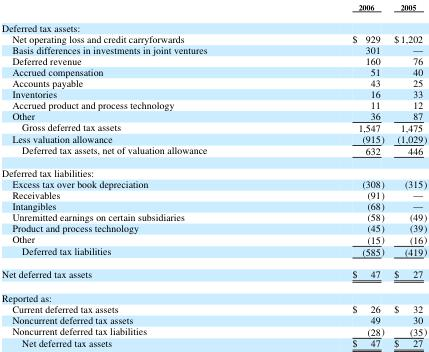table: (1, 1, 426, 349)
table column: (1, 1, 278, 349), (278, 1, 388, 349), (388, 1, 426, 349)
table column header: (1, 1, 426, 16)
table projected row header: (1, 285, 426, 303), (1, 161, 426, 178), (1, 16, 426, 32)
table row: (1, 262, 426, 285), (1, 143, 426, 161), (1, 244, 426, 262), (1, 285, 426, 303), (1, 161, 426, 178), (1, 16, 426, 32), (1, 1, 426, 16), (1, 336, 426, 349), (1, 120, 426, 132), (1, 32, 426, 43), (1, 43, 426, 54), (1, 54, 426, 65), (1, 65, 426, 76), (1, 76, 426, 87), (1, 87, 426, 98), (1, 98, 426, 109), (1, 109, 426, 120), (1, 132, 426, 143), (1, 178, 426, 189), (1, 189, 426, 200), (1, 200, 426, 211), (1, 211, 426, 222), (1, 222, 426, 233), (1, 233, 426, 244), (1, 303, 426, 314), (1, 314, 426, 325), (1, 325, 426, 336)
